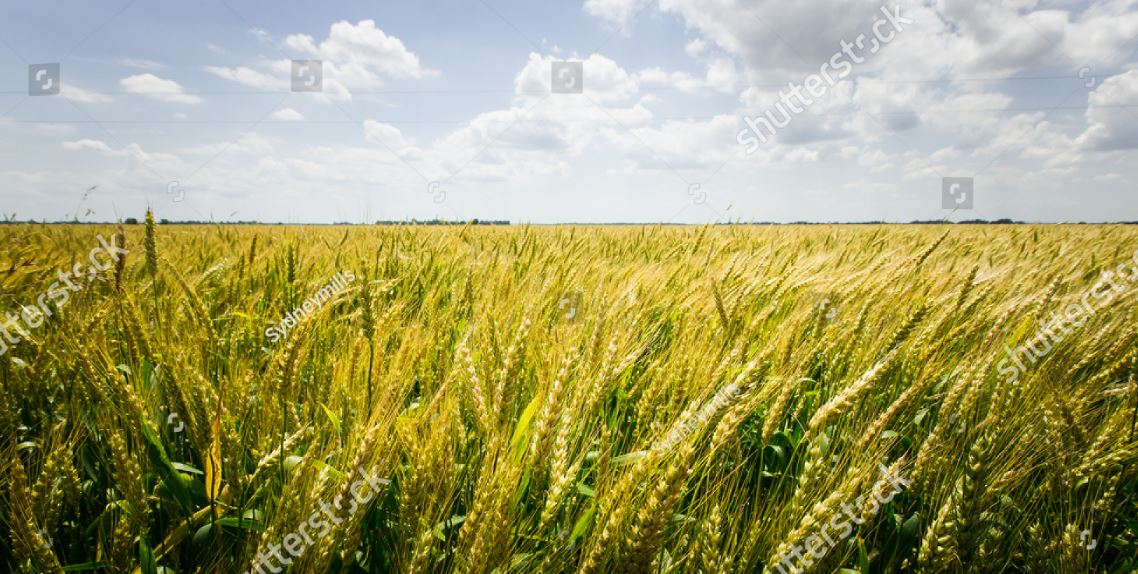Wheat: (548, 258, 1020, 545)
